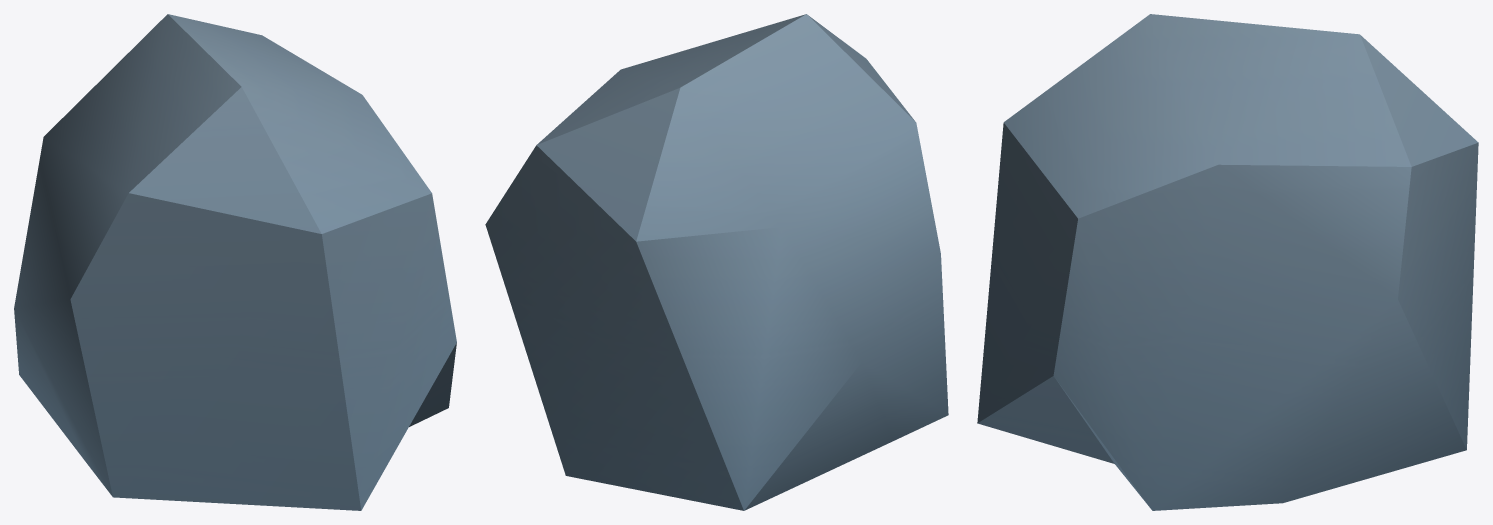
The model's file is Rock_01C.glb.
3 renders of one model, left to right at view 1: azimuth 30°, elevation 25°; view 2: azimuth 150°, elevation 25°; view 3: azimuth 270°, elevation 25°, orthographic. The views are drawn at different scales.
Parts seen in each view (by area): view 1: Rock_01C; view 2: Rock_01C; view 3: Rock_01C.
Boxes of the visible parts, box(x1,y1,x2,y2) form: Rock_01C: box(14, 14, 456, 510); Rock_01C: box(485, 14, 948, 510); Rock_01C: box(977, 14, 1478, 510).
Size of the model in its own units: 0.882 by 0.87 by 1.01.
1 material, 1 textured.
